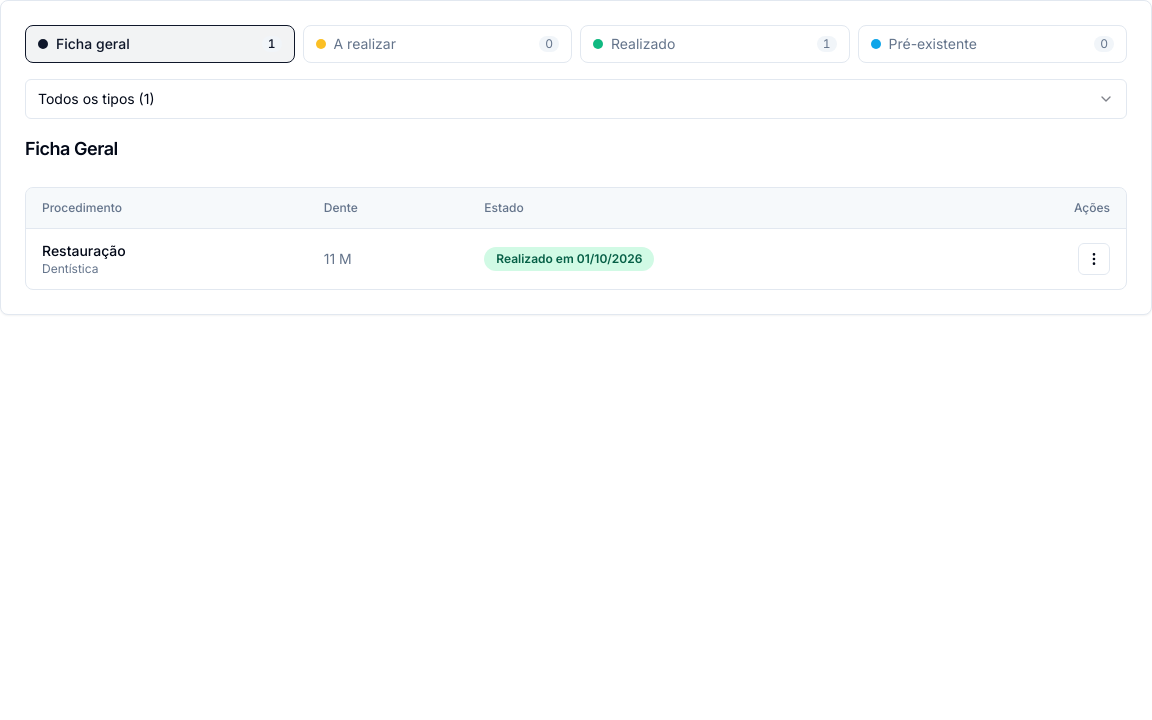
Test: ProcedureList › procedimento com pagamento não pode ser excluído
Click the button named "Ações de Restauração".
click(1094, 259)  # box [1078, 243, 1110, 275]
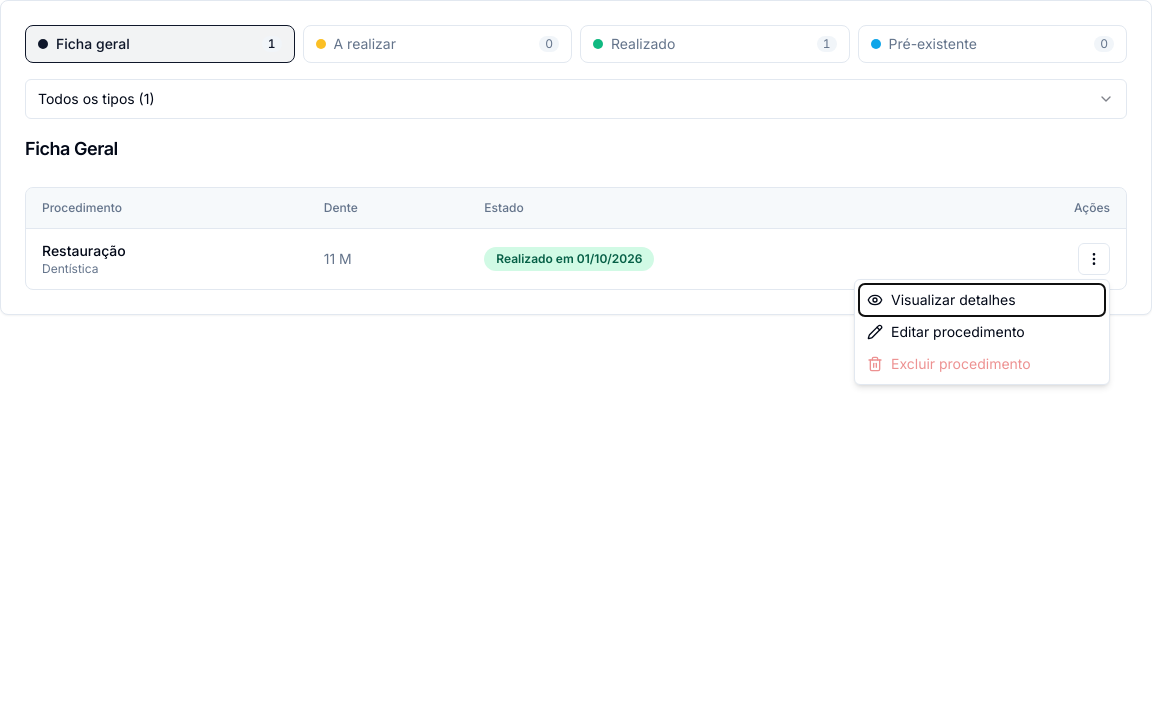
expect the button "Excluir procedimento" is disabled: met, box [859, 348, 1105, 380]
